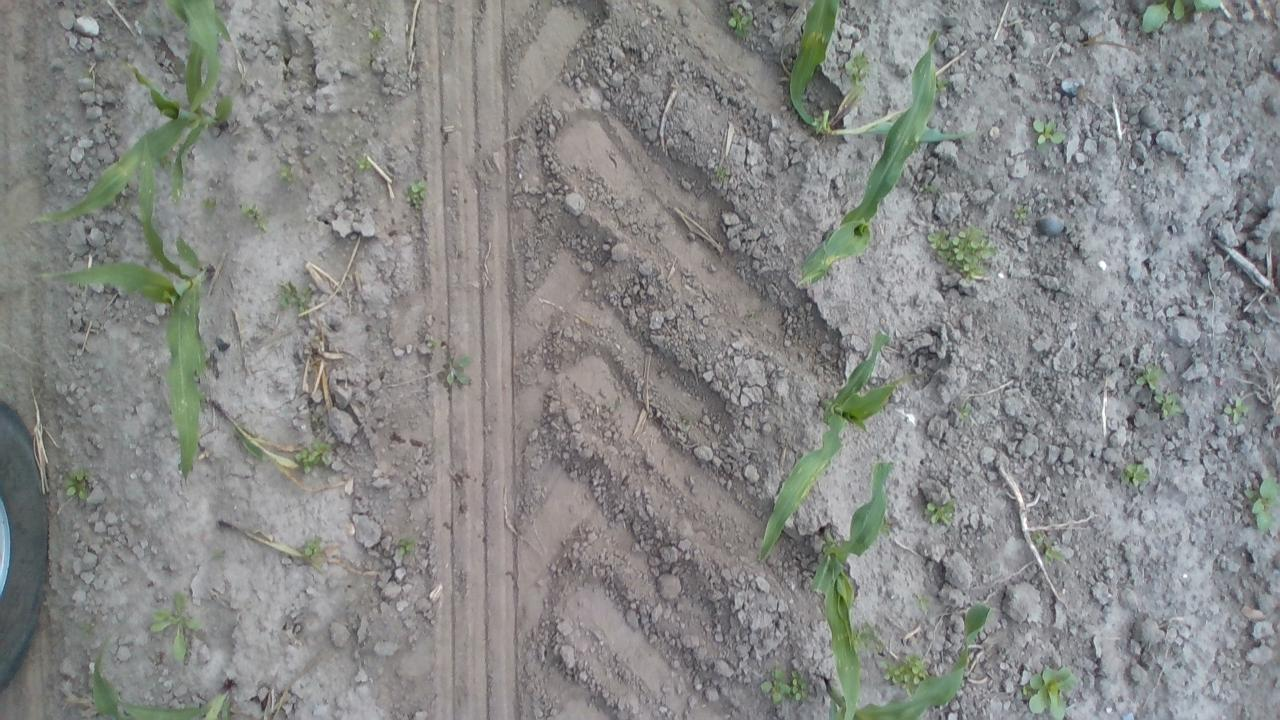Maize: (38, 134, 215, 484), (752, 325, 941, 572), (794, 25, 944, 298), (29, 61, 236, 228), (786, 0, 977, 143), (805, 459, 897, 720), (813, 604, 995, 720), (80, 631, 241, 720), (164, 0, 240, 109), (201, 394, 273, 466), (211, 515, 300, 571)
Weeds: (146, 587, 198, 665), (928, 221, 992, 284), (1021, 662, 1077, 720), (1138, 1, 1222, 34), (1244, 473, 1280, 534), (761, 666, 810, 709), (884, 650, 929, 689), (276, 278, 316, 318), (62, 464, 94, 505), (296, 440, 332, 475), (1032, 114, 1067, 148), (442, 352, 472, 389), (1117, 461, 1155, 489), (924, 496, 956, 528), (1134, 360, 1166, 391), (239, 200, 271, 229), (1220, 394, 1248, 425), (402, 175, 429, 207), (854, 620, 882, 650), (1154, 388, 1180, 420), (726, 9, 754, 38), (949, 402, 980, 426), (1008, 200, 1033, 226), (845, 50, 866, 80), (916, 593, 934, 617), (398, 535, 418, 556), (278, 161, 296, 183), (302, 536, 322, 555), (911, 182, 938, 196), (1043, 546, 1062, 565), (367, 26, 386, 44), (712, 164, 729, 184), (880, 518, 896, 538), (355, 153, 371, 170), (202, 199, 218, 215), (936, 72, 950, 90), (1032, 525, 1045, 541), (160, 153, 172, 170), (428, 332, 438, 350), (364, 52, 376, 64)
